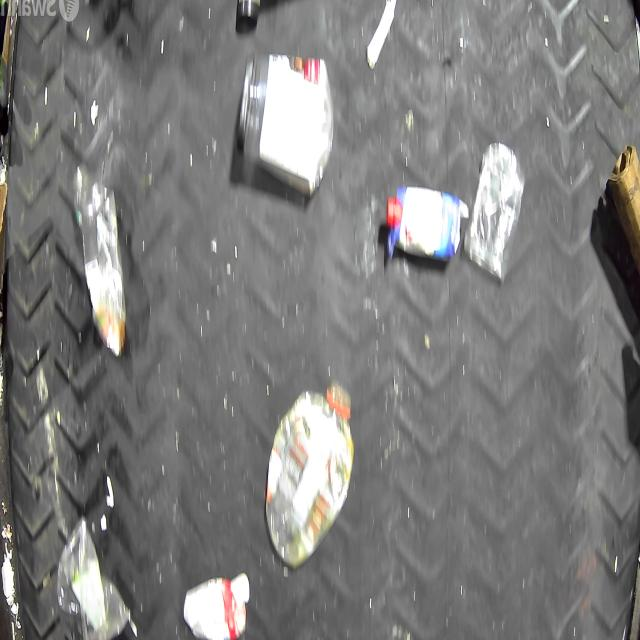plastic_bottle: (266, 379, 352, 565), (74, 160, 126, 357)
